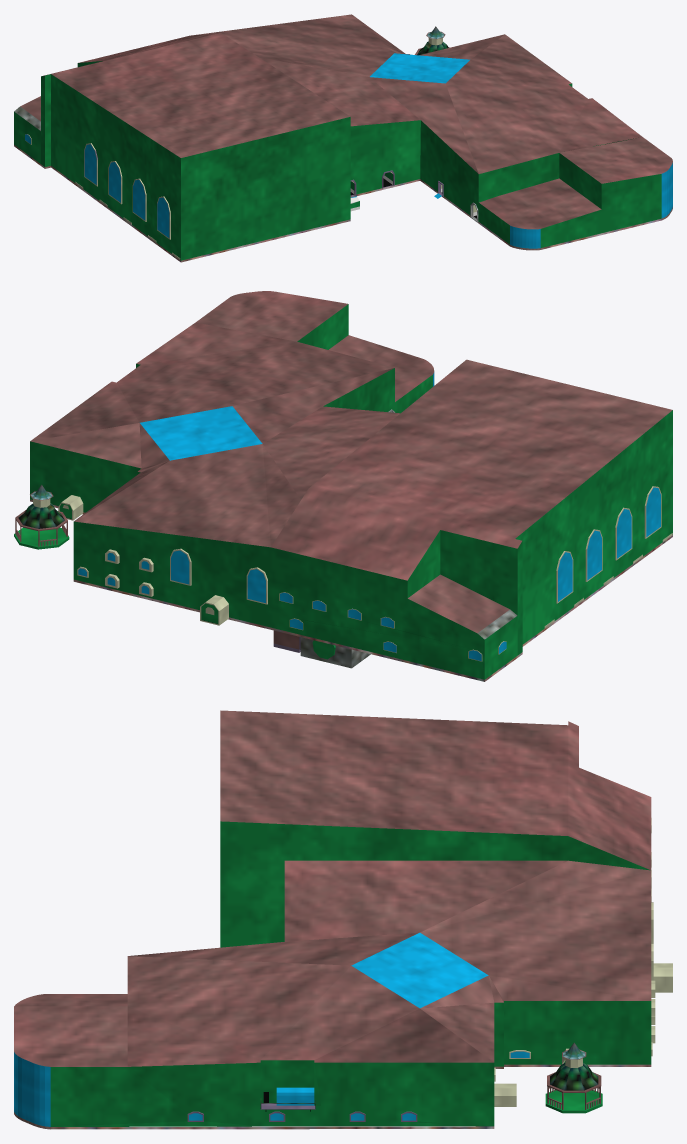
The model's file is mansion.fbx.
The picture shows the model from 3 angles, top to bottom: view 1: azimuth 30°, elevation 25°; view 2: azimuth 150°, elevation 25°; view 3: azimuth 270°, elevation 25°; orthographic projection. The views are drawn at different scales.
Parts seen in each view (by area): view 1: main walls_selection, main perrimiter, gazebo; view 2: main walls_selection, main perrimiter, gazebo, stargate room, main perimiter airlock pieces; view 3: main walls_selection, gazebo, main perrimiter, main perimiter airlock pieces, temp long.
Part boxes in pixels (<box>): main walls_selection: <box>14,14,672,262</box>; main perrimiter: <box>14,106,170,239</box>; gazebo: <box>415,26,449,55</box>; main walls_selection: <box>30,291,672,681</box>; main perrimiter: <box>77,486,661,661</box>; gazebo: <box>14,484,69,549</box>; stargate room: <box>273,630,370,668</box>; main perimiter airlock pieces: <box>58,495,228,625</box>; main walls_selection: <box>14,710,651,1129</box>; gazebo: <box>545,1042,602,1113</box>; main perrimiter: <box>260,818,655,1111</box>; main perimiter airlock pieces: <box>494,963,672,1106</box>; temp long: <box>187,1111,417,1121</box>.
Size of the model in its own units: 12515 by 4460 by 12175.
Materials: 12 (12 with a texture image).
